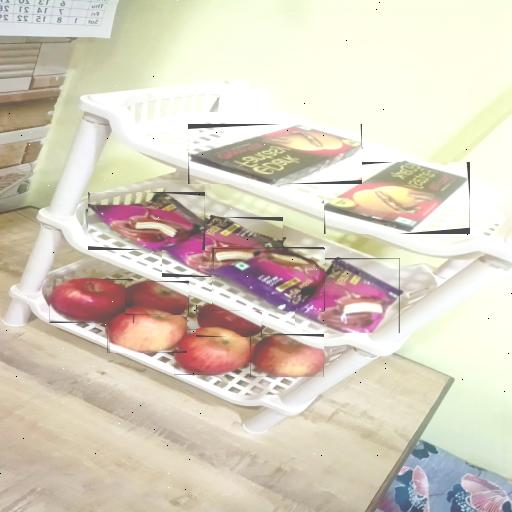Apple: (48, 279, 132, 323), (106, 307, 186, 353), (174, 329, 252, 375), (250, 334, 324, 377), (125, 281, 189, 315), (196, 305, 262, 337)
Choco Fills: (324, 162, 470, 234), (188, 124, 362, 184)
Choco Pie: (295, 258, 400, 333), (162, 217, 283, 277), (213, 248, 324, 311), (89, 193, 204, 250)
